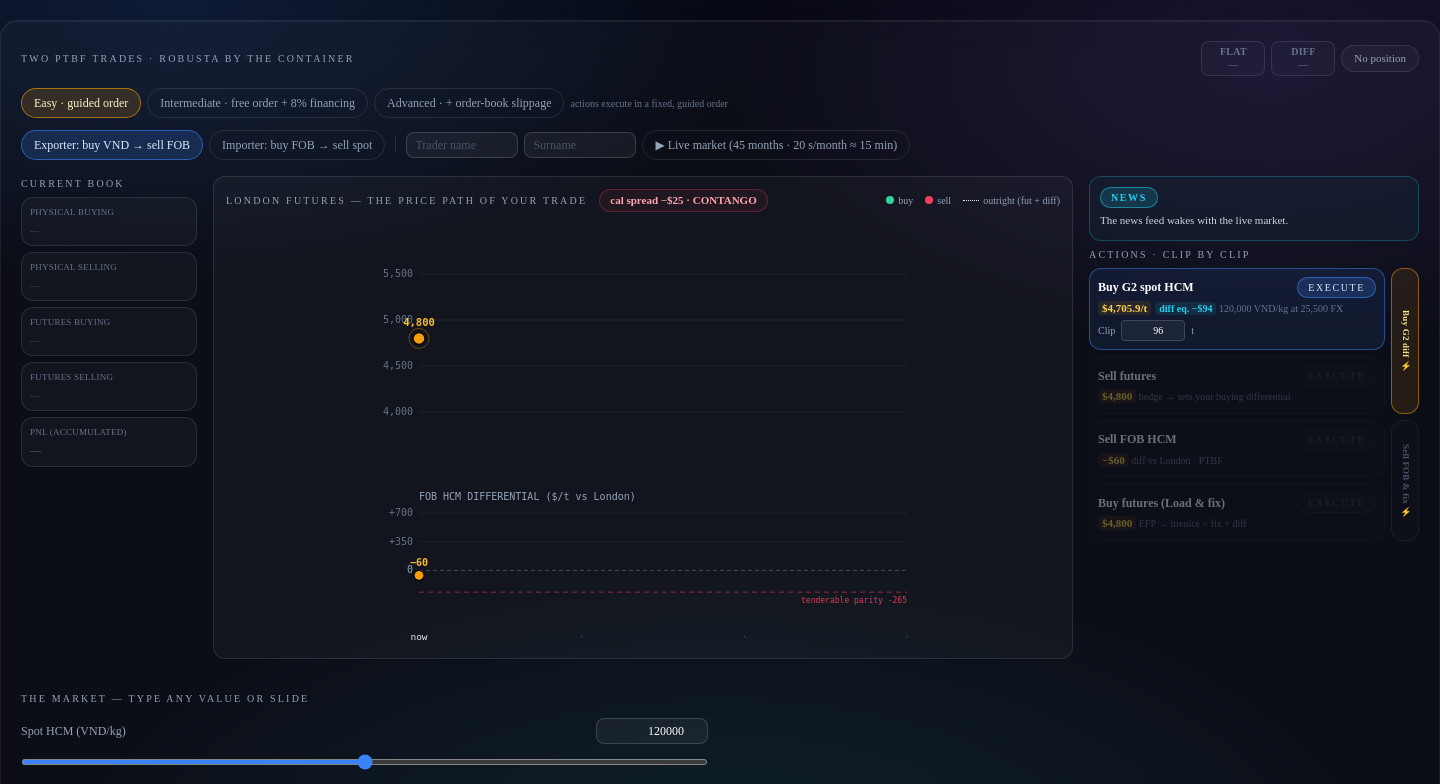
Test case: PtbfMechanics intermediate live: financing accrues every second on locked capital
The image size is (1440, 784).
Click the button "Intermediate · free order + 8% financing" at x=258, y=103, box [147, 88, 368, 118]
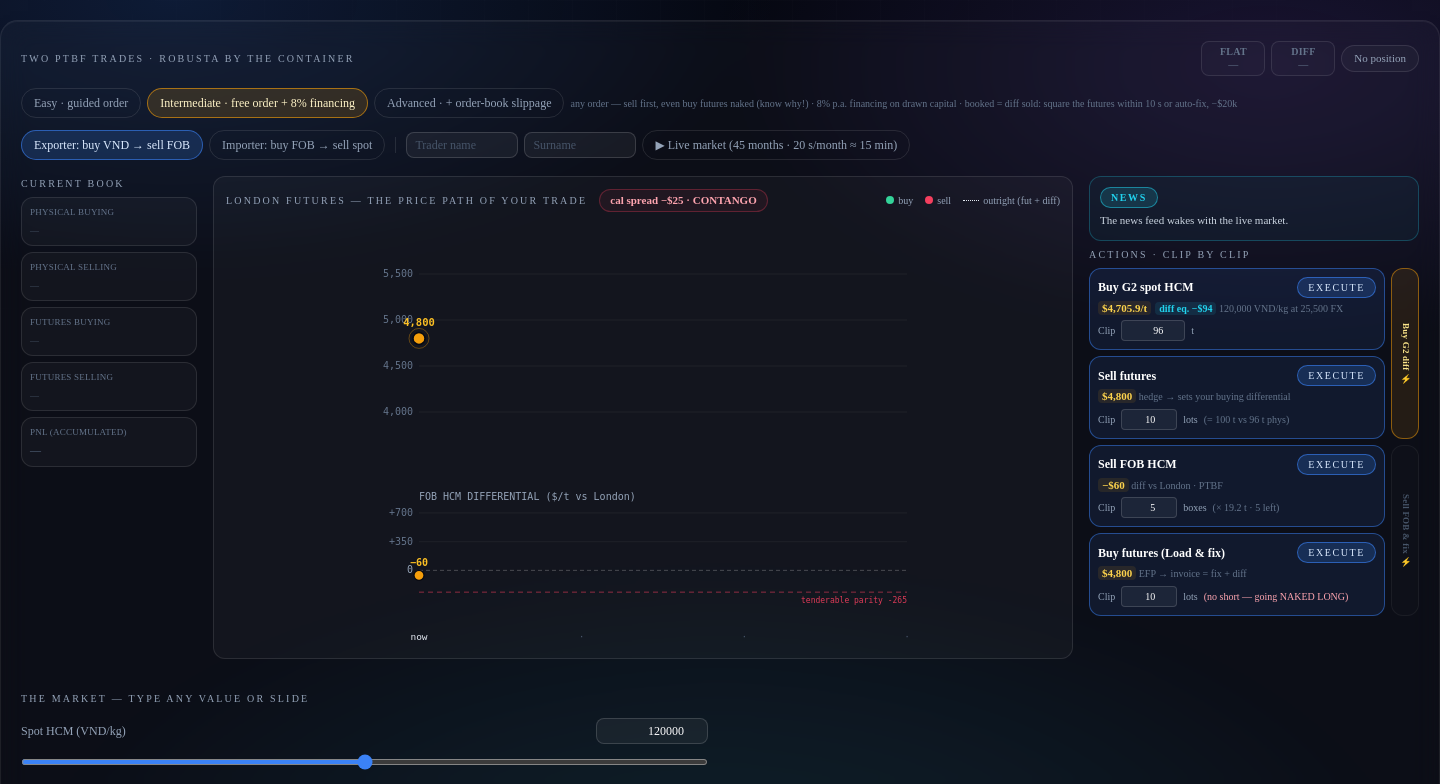
Click the button "▶ Live market (45 months · 20 s/month ≈ 15 min)" at x=776, y=145, box [642, 130, 910, 160]
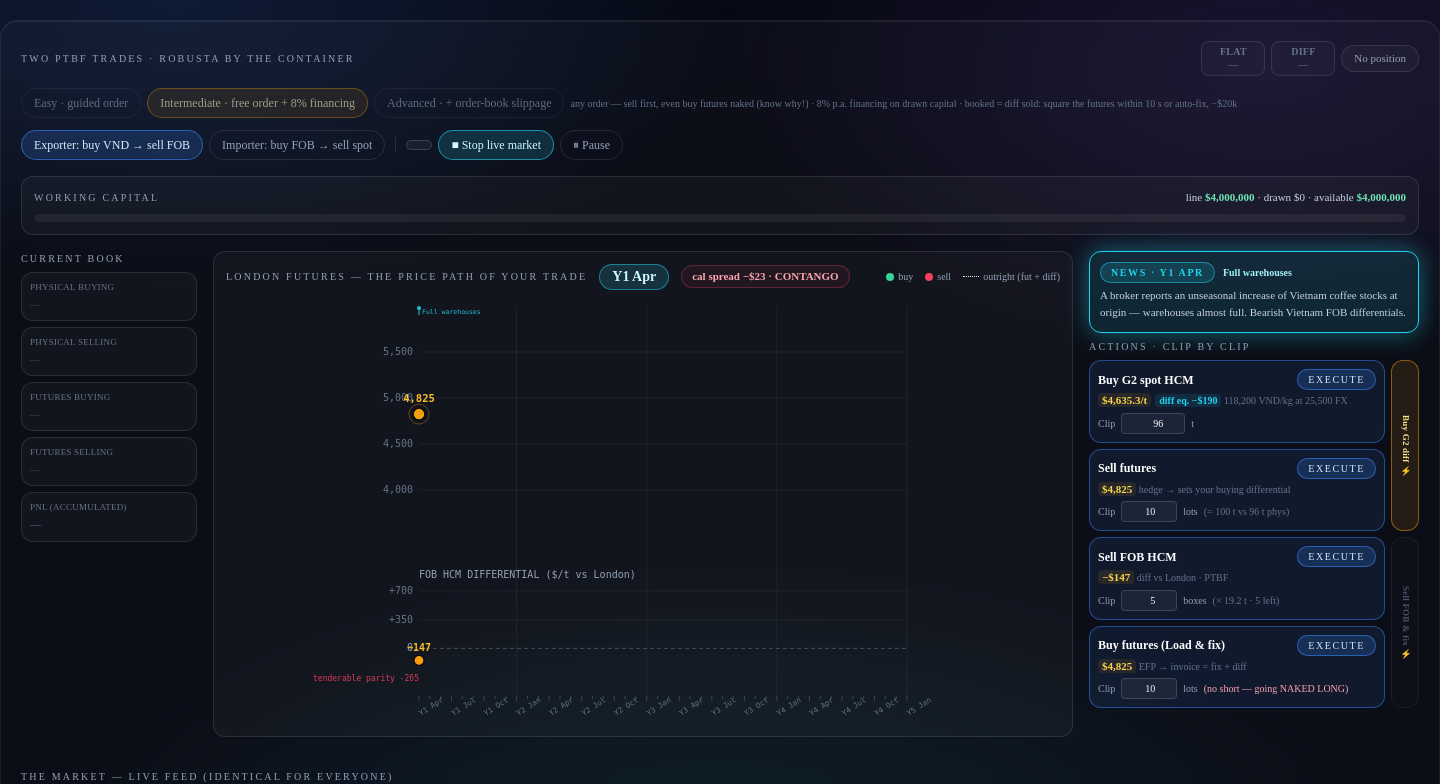
Click the button with aria-label "Buy G2 spot HCM" at x=1337, y=380, box [1297, 369, 1376, 390]
Wait 10000 ms
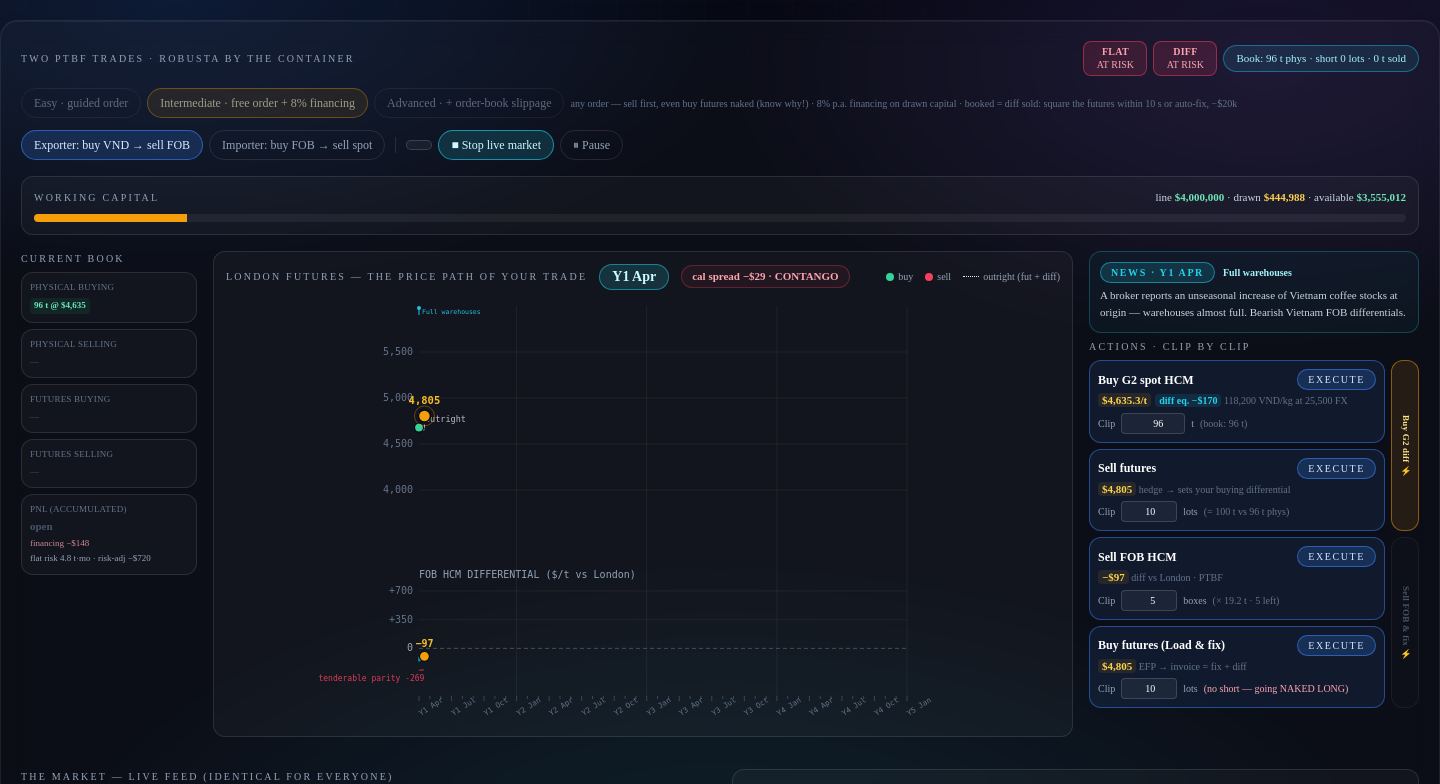
expect the text "financing −$" is shown: met, box [30, 538, 71, 548]
